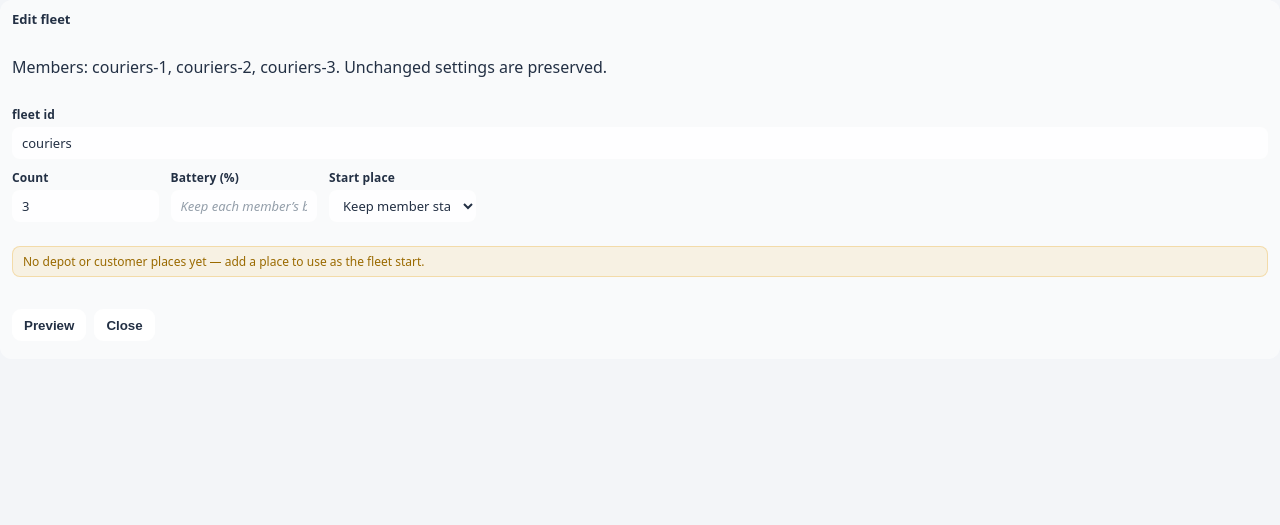
Test: AddFleet previews a set_fleet shrink and names exactly the members to be removed
Check: the text "Members: couriers-1, couriers-2, couriers-3" is shown, box [12, 56, 607, 78]
Replace the text in the field labelled "Count" with "1": (85, 206) [12, 190, 158, 222]
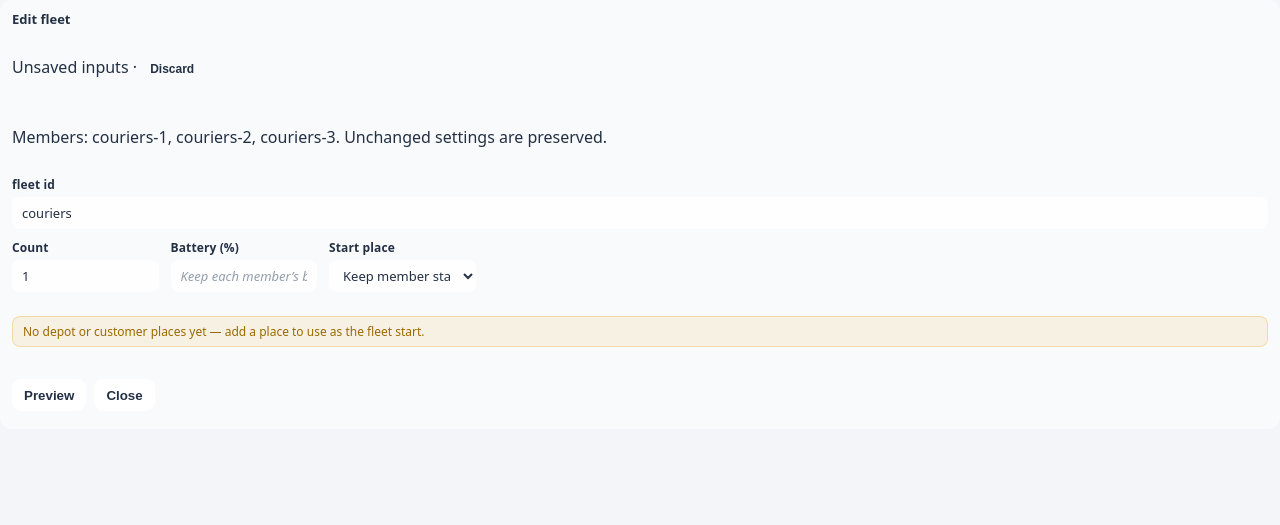
Click the button "Preview": (49, 395) [12, 379, 86, 411]
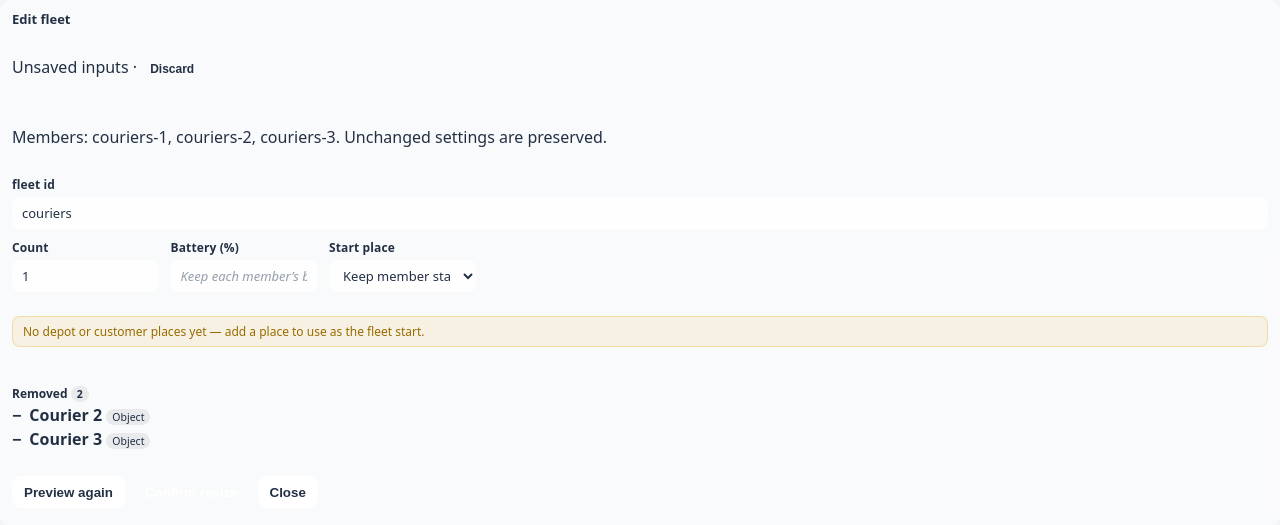
Check: the text "Courier 2" is shown, box [29, 404, 102, 426]
